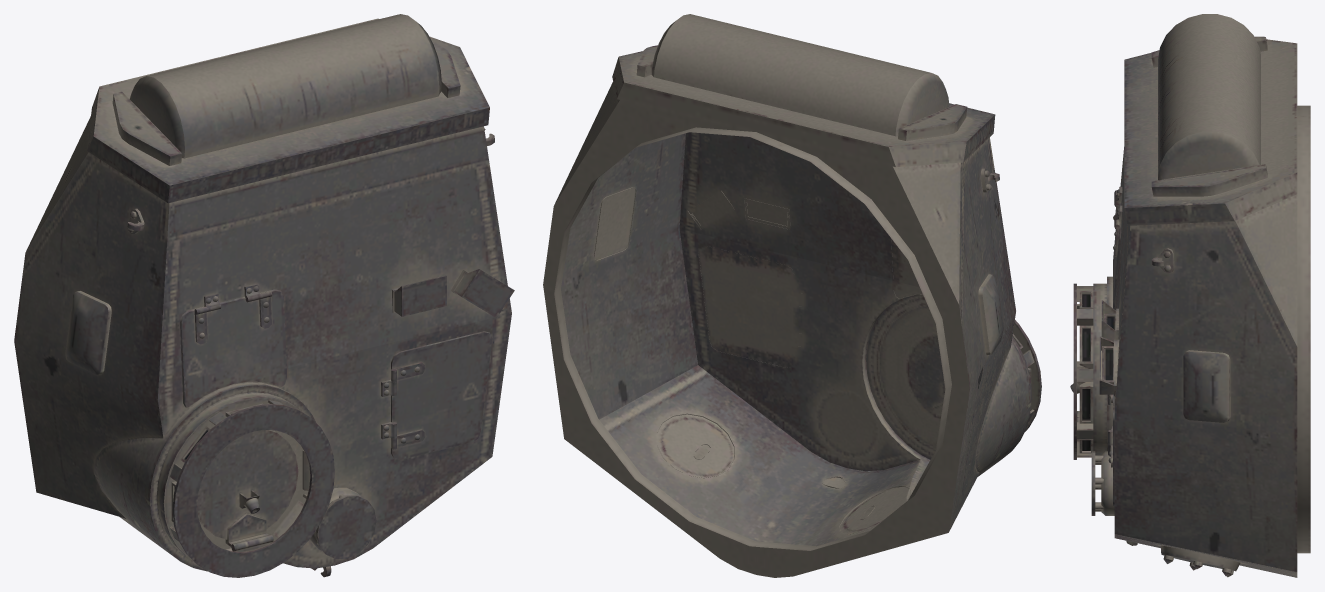
The model's file is Turret_01.glb.
3 views of the same model, side by side, from view 1: azimuth 30°, elevation 25°; view 2: azimuth 150°, elevation 25°; view 3: azimuth 270°, elevation 25° (orthographic). The views are drawn at different scales.
Visible parts, largest first — view 1: set_0_group_0; view 2: set_0_group_0; view 3: set_0_group_0.
Part boxes in pixels (bbox=[...]): set_0_group_0: bbox=[14, 14, 514, 577]; set_0_group_0: bbox=[543, 14, 1041, 577]; set_0_group_0: bbox=[1070, 14, 1310, 577].
Bounding box in the file's own units: 1.96 × 2.18 × 0.9588.
1 material, 1 textured.
